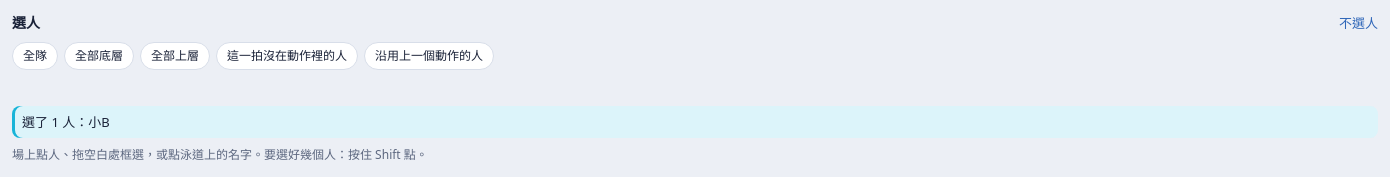
選人捷徑 › 播放頭前面還沒有動作就說一聲，不改選取
This screenshot has width=1390, height=177.
Click the button "沿用上一個動作的人": point(429, 56) [364,42,494,70]
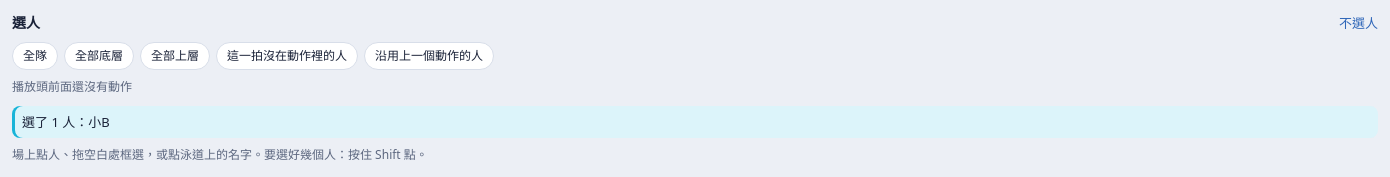
Result: the message reads "播放頭前面還沒有動作" at [12,78,132,95]
